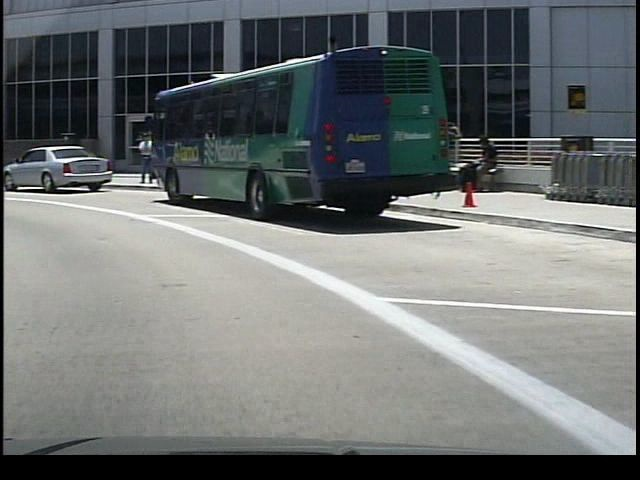person: (455, 131, 496, 196), (131, 132, 152, 186)
